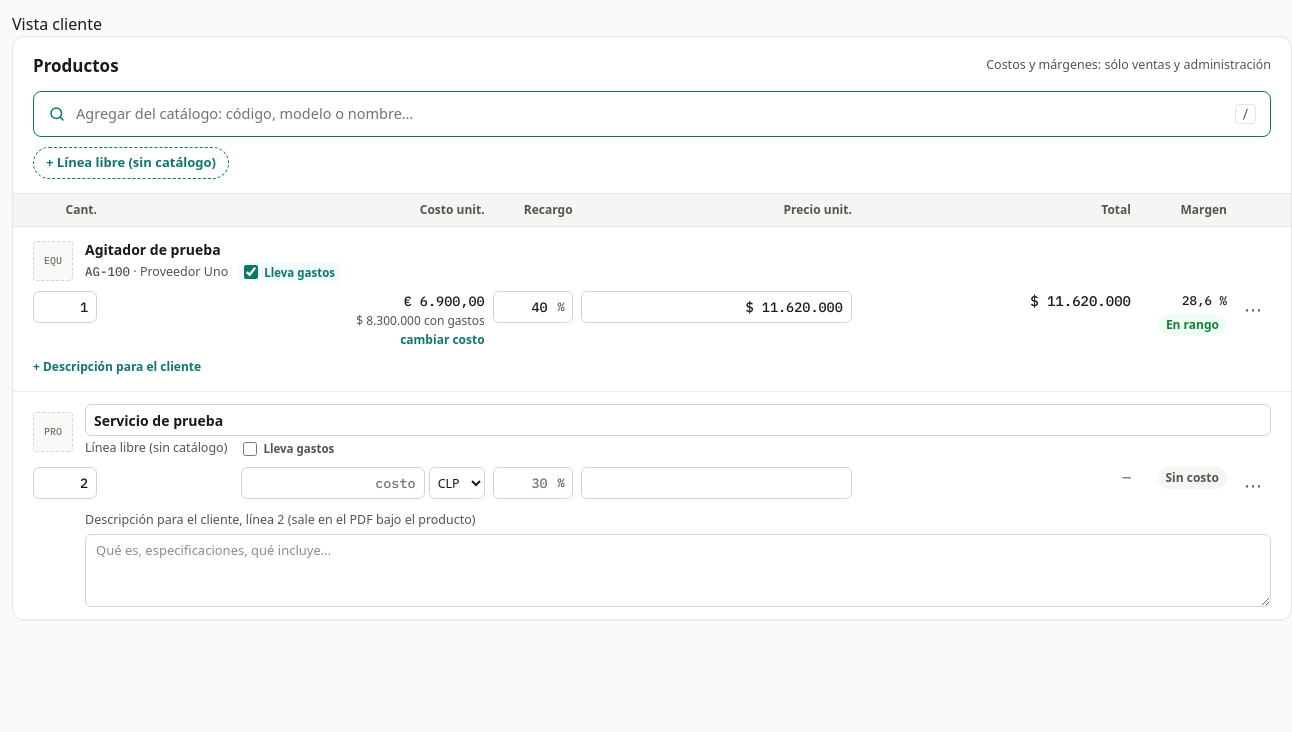
Test case: ProductsSection — each row keeps its own numbers › after a line above is removed, the next row shows its own prices, not the removed one's
The image size is (1292, 732).
Click the button named "Más acciones de la línea 1" at (1253, 309), box [1235,291,1271,327]
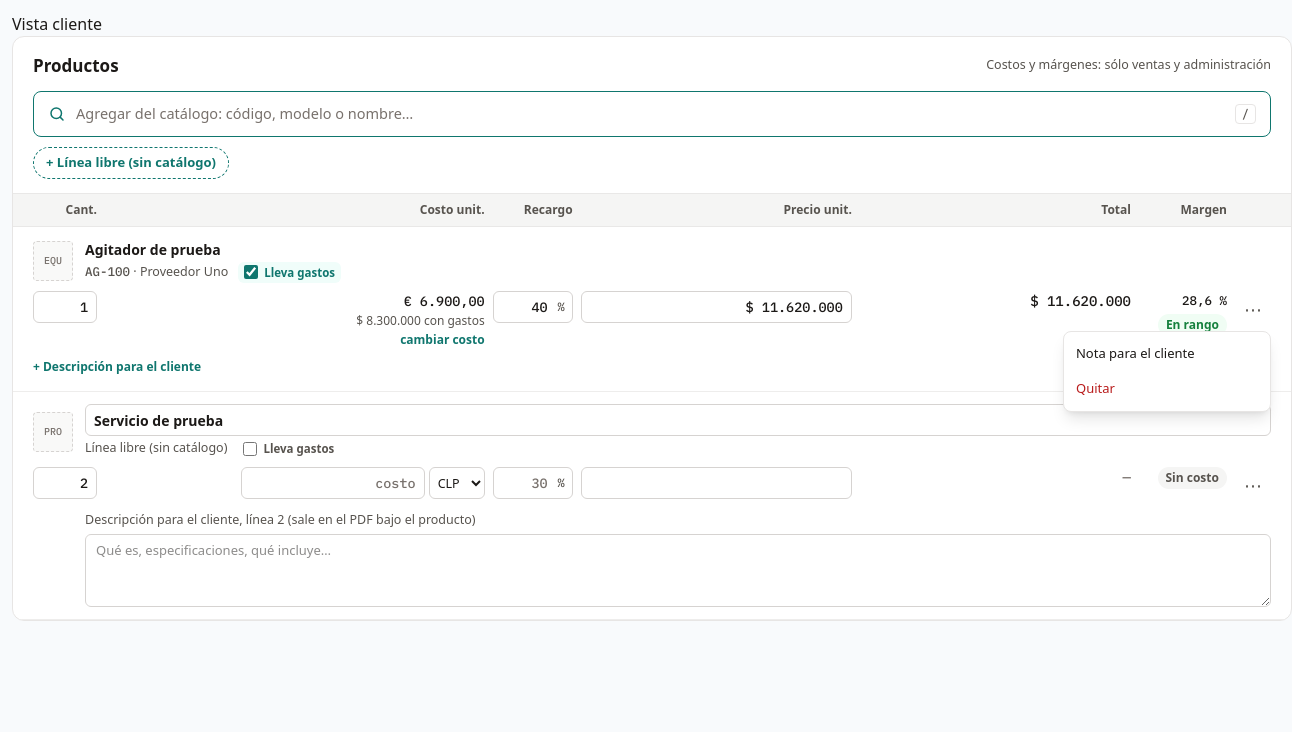
Click the menu item "Quitar" at (1167, 389), box [1064,371,1270,407]
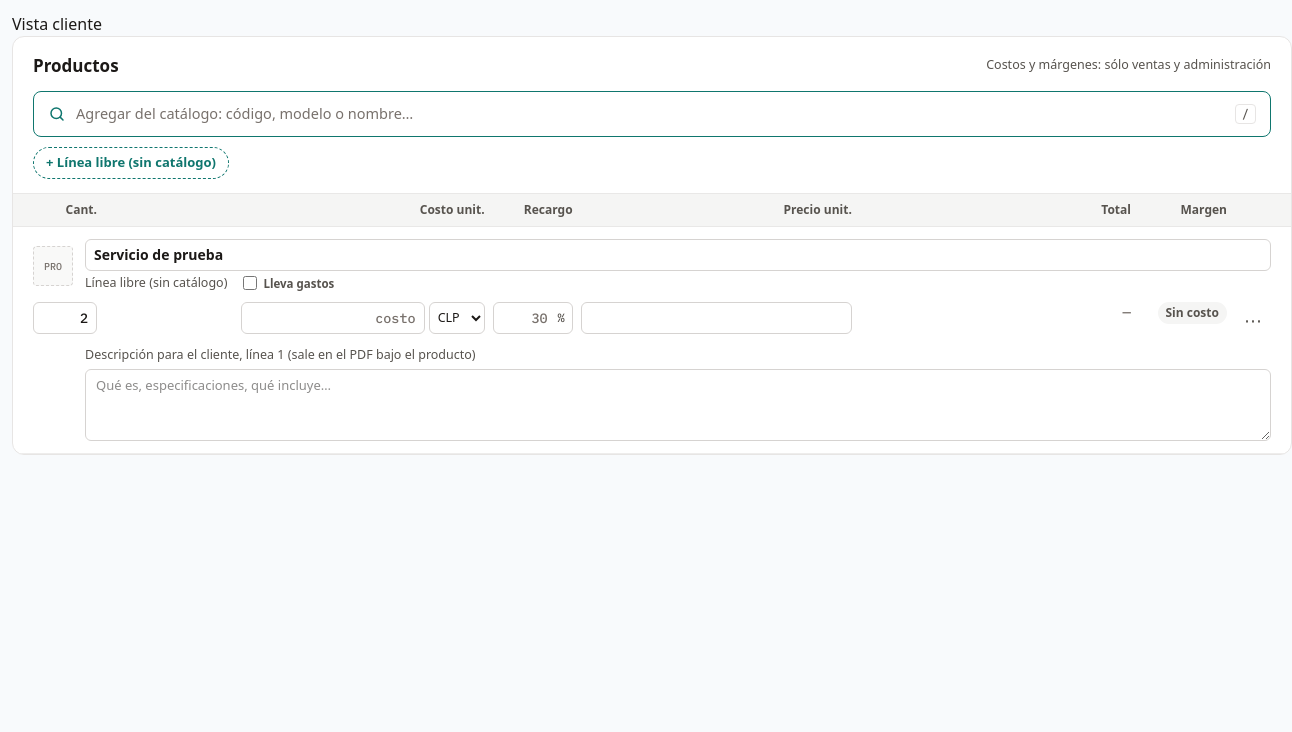
expect the text "Sin costo" is shown: met, box [1158,302,1227,324]
expect the text "$ 11.620.000" is gone: met
expect the text "En rango" is gone: met
